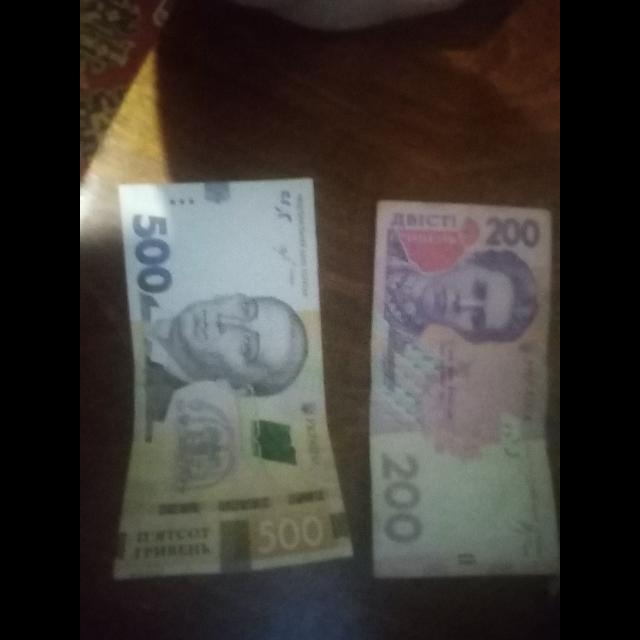200uah: (370, 192, 560, 572)
500uah: (117, 176, 358, 578)
